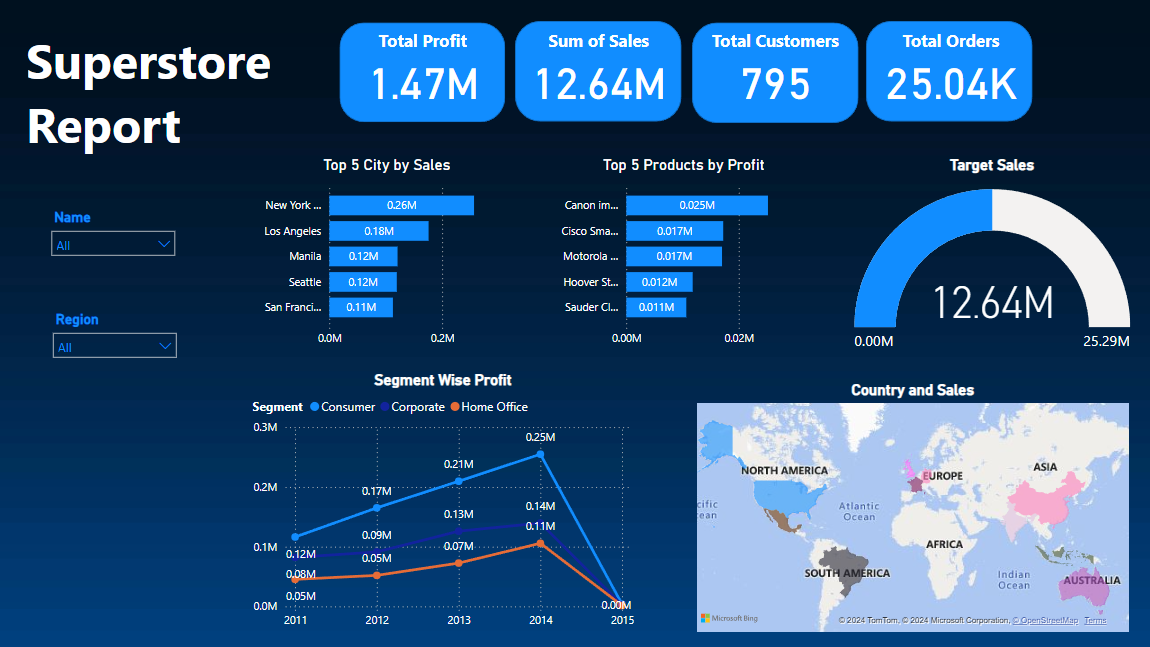

The page's visual inventory and layout, read from the dashboard file:
{"tool":"powerbi","page":{"name":"Superstore","canvas":[1280,720],"ordinal":0},"visuals":[{"type":"barChart","title":"Top 5 City by Sales","fields":{"Y":["Sum(Orders.Sales)"],"Category":["Orders.City"]},"box":[276.7,173.3,308.3,220],"z":0},{"type":"barChart","title":"Top 5 Products by Profit","fields":{"Y":["Sum(Orders.Profit)"],"Category":["Orders.Product Name"]},"box":[606.7,173.3,308.3,220],"z":1000},{"type":"gauge","title":"Target Sales","fields":{"Y":["Sum(Orders.Sales)"]},"box":[945,173.3,316.7,238.3],"z":2000},{"type":"lineChart","title":"Segment Wise Profit","fields":{"Category":["Orders.Ship Date.Variation.Date Hierarchy.Year"],"Y":["Sum(Orders.Profit)"],"Series":["Orders.Segment"]},"box":[276.7,411.7,433.3,295],"z":3000},{"type":"shape","box":[770,25,185,111.7],"z":4000},{"type":"card","title":"Total Customers","fields":{"Values":["Count(Orders.Customer Name)"]},"box":[780,31.7,165,96.7],"z":5000},{"type":"shape","box":[963.3,23.3,185,111.7],"z":6000},{"type":"card","title":"Total Orders","fields":{"Values":["Count(Orders.Order ID)"]},"box":[975,31.7,165,96.7],"z":7000},{"type":"shape","box":[573.3,23.3,185,111.7],"z":8000},{"type":"card","title":"Sum of Sales","fields":{"Values":["Sum(Orders.Sales)"]},"box":[584.9,31.8,162.1,97],"z":9000},{"type":"shape","box":[378.3,25,184.2,110.8],"z":10000},{"type":"card","title":"Total Profit","fields":{"Values":["Sum(Orders.Profit)"]},"box":[393.3,31.7,155,96.7],"z":11000},{"type":"textbox","box":[25,25,313.3,160],"z":12000},{"type":"slicer","fields":{"Values":["Orders.Region"]},"box":[49.3,340.1,157.4,71.5],"z":13000},{"type":"slicer","fields":{"Values":["Orders.Product Name"]},"box":[49,227.3,157.6,72.3],"z":14000},{"type":"filledMap","fields":{"Category":["Orders.Country"],"Series":["Orders.Sales"]},"box":[770.7,424,490.6,283.2],"z":15000}]}

Visuals, with their boxes in screenshot pixels (x1, y1, x2, y2), scaled from the page's 1280x720 canvas onto the 1150x647 screenshot:
"Top 5 City by Sales" barChart: [x1=249, y1=156, x2=526, y2=353]
"Top 5 Products by Profit" barChart: [x1=545, y1=156, x2=822, y2=353]
"Target Sales" gauge: [x1=849, y1=156, x2=1134, y2=370]
"Segment Wise Profit" lineChart: [x1=249, y1=370, x2=638, y2=635]
shape: [x1=692, y1=22, x2=858, y2=123]
"Total Customers" card: [x1=701, y1=28, x2=849, y2=115]
shape: [x1=865, y1=21, x2=1032, y2=121]
"Total Orders" card: [x1=876, y1=28, x2=1024, y2=115]
shape: [x1=515, y1=21, x2=681, y2=121]
"Sum of Sales" card: [x1=525, y1=29, x2=671, y2=116]
shape: [x1=340, y1=22, x2=505, y2=122]
"Total Profit" card: [x1=353, y1=28, x2=493, y2=115]
textbox: [x1=22, y1=22, x2=304, y2=166]
slicer - Orders.Region: [x1=44, y1=306, x2=186, y2=370]
slicer - Orders.Product Name: [x1=44, y1=204, x2=186, y2=269]
filledMap - Orders.Country x Orders.Sales: [x1=692, y1=381, x2=1133, y2=635]
